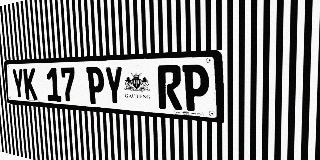1: (45, 68, 61, 102)
7: (60, 67, 77, 103)
K: (23, 68, 38, 100)
P: (182, 64, 209, 112), (86, 67, 105, 105)
R: (157, 65, 182, 110)
Y: (104, 66, 124, 106), (11, 68, 25, 99)
